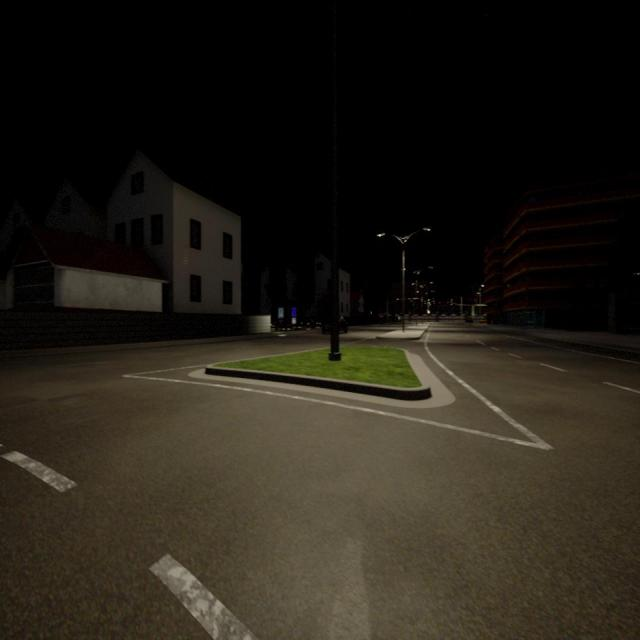Vehicle: (322, 315, 348, 333), (465, 316, 473, 322), (480, 319, 487, 323)
traffic_light: (438, 302, 441, 304), (446, 302, 449, 304)
